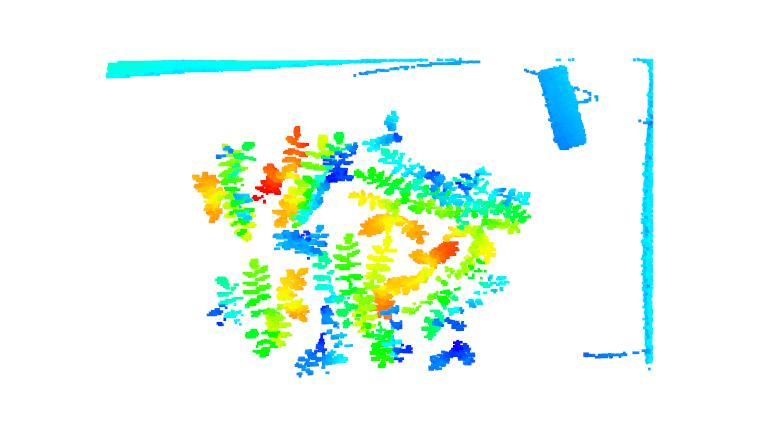chickpea: (276, 231, 372, 375), (413, 243, 518, 371), (199, 257, 309, 358), (439, 163, 546, 265), (354, 109, 436, 241), (255, 124, 356, 226), (191, 138, 263, 245), (373, 240, 426, 370)
